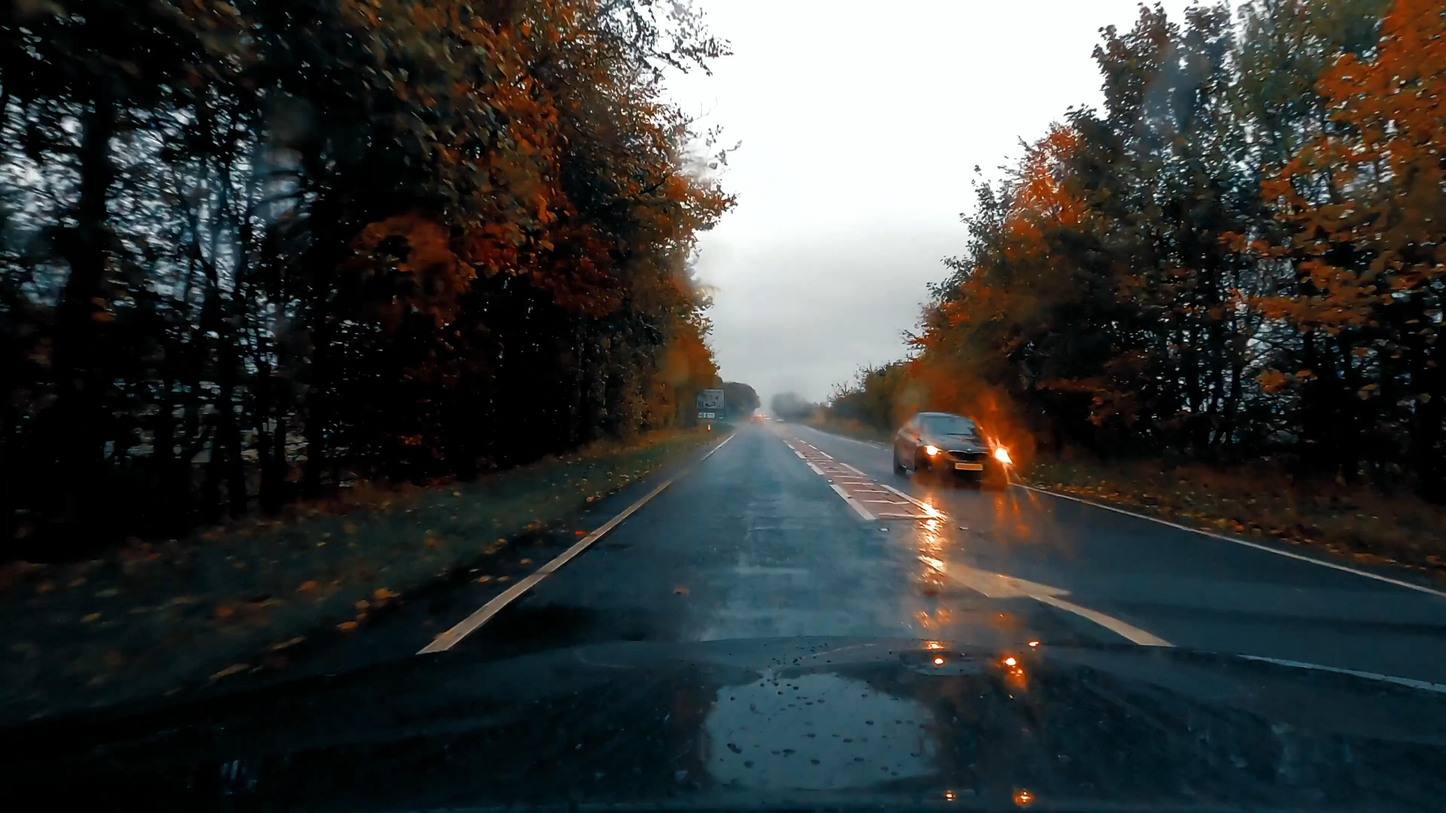wet: (415, 416, 1446, 687)
